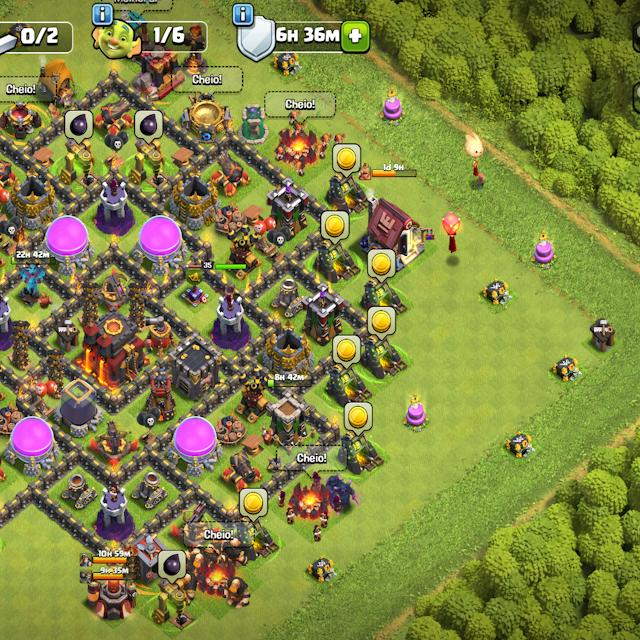ElixirNegro: (132, 110, 165, 144), (65, 110, 95, 145), (158, 549, 186, 585)
coin: (331, 334, 362, 370), (343, 402, 374, 438), (320, 209, 350, 246), (367, 305, 397, 341), (238, 487, 268, 523), (368, 248, 397, 284), (333, 144, 362, 178)
